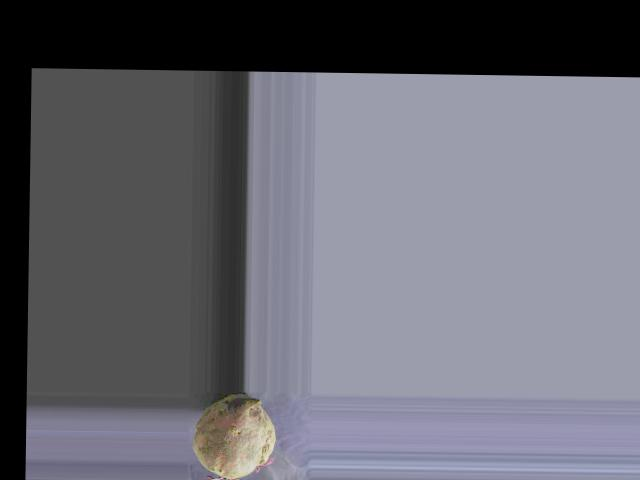beet: (193, 393, 276, 480)
